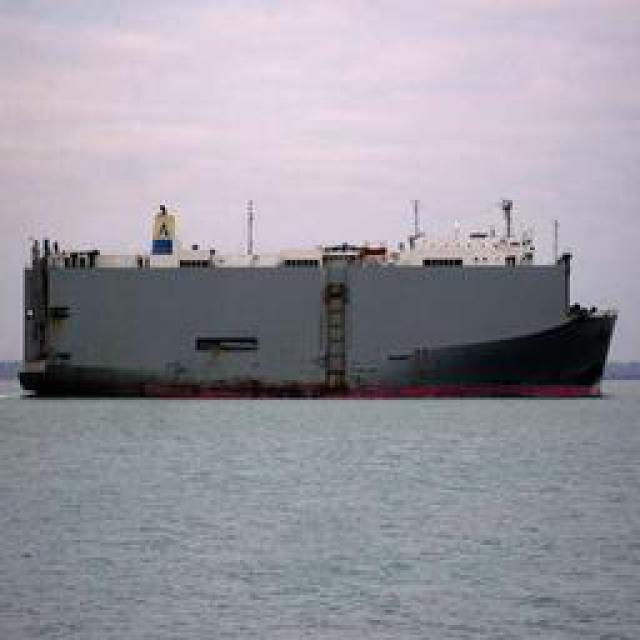Ship: (16, 201, 624, 404)
